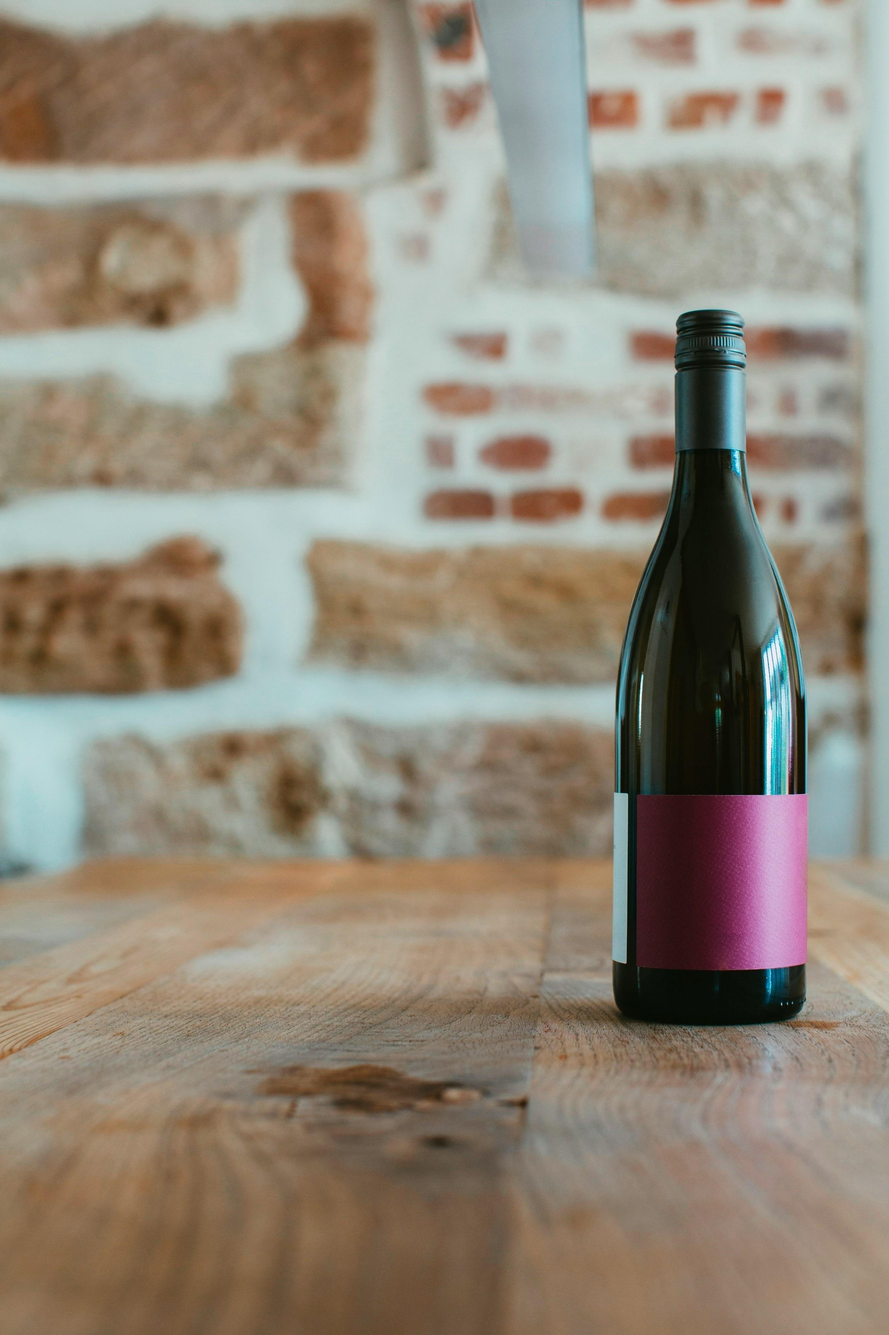Bottle-Detection: (564, 244, 861, 1079)
